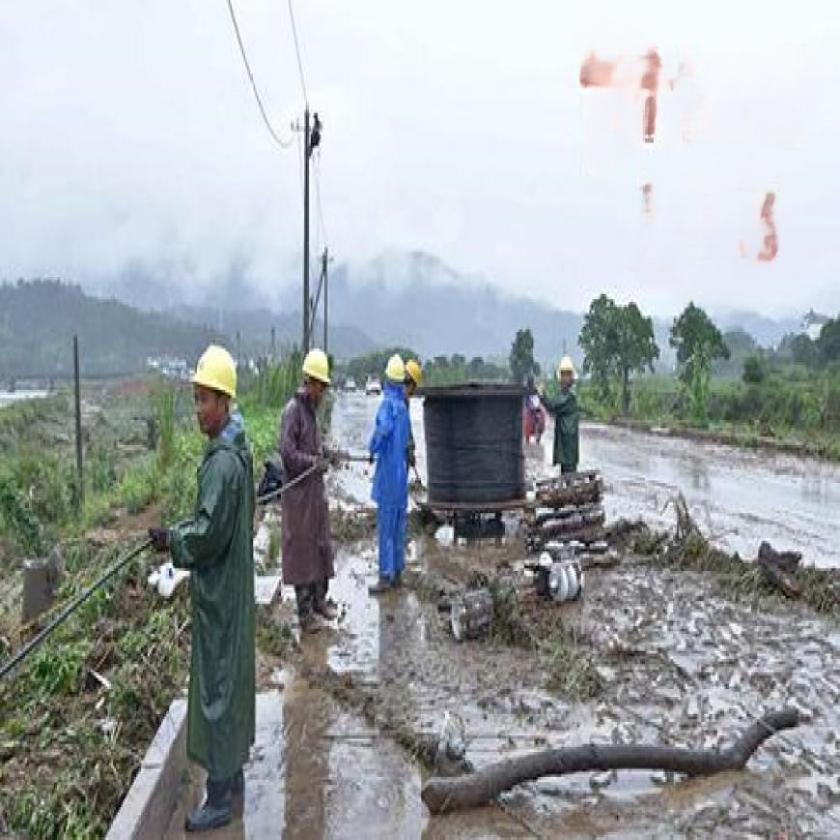Con_casco: (187, 343, 239, 447)
